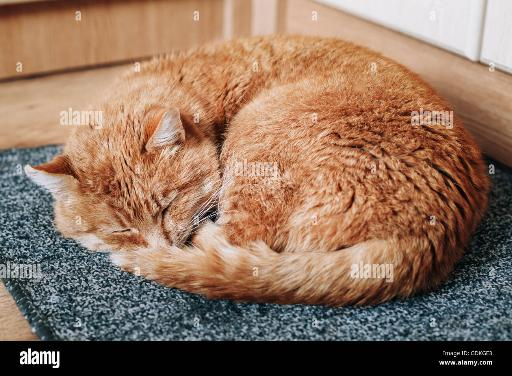cat_sleeping: (25, 35, 489, 306)
